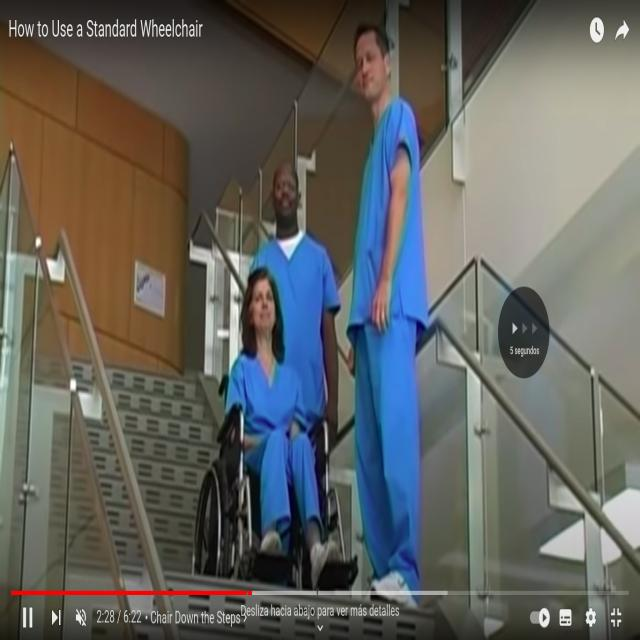wheelchairs: (193, 372, 355, 585)
